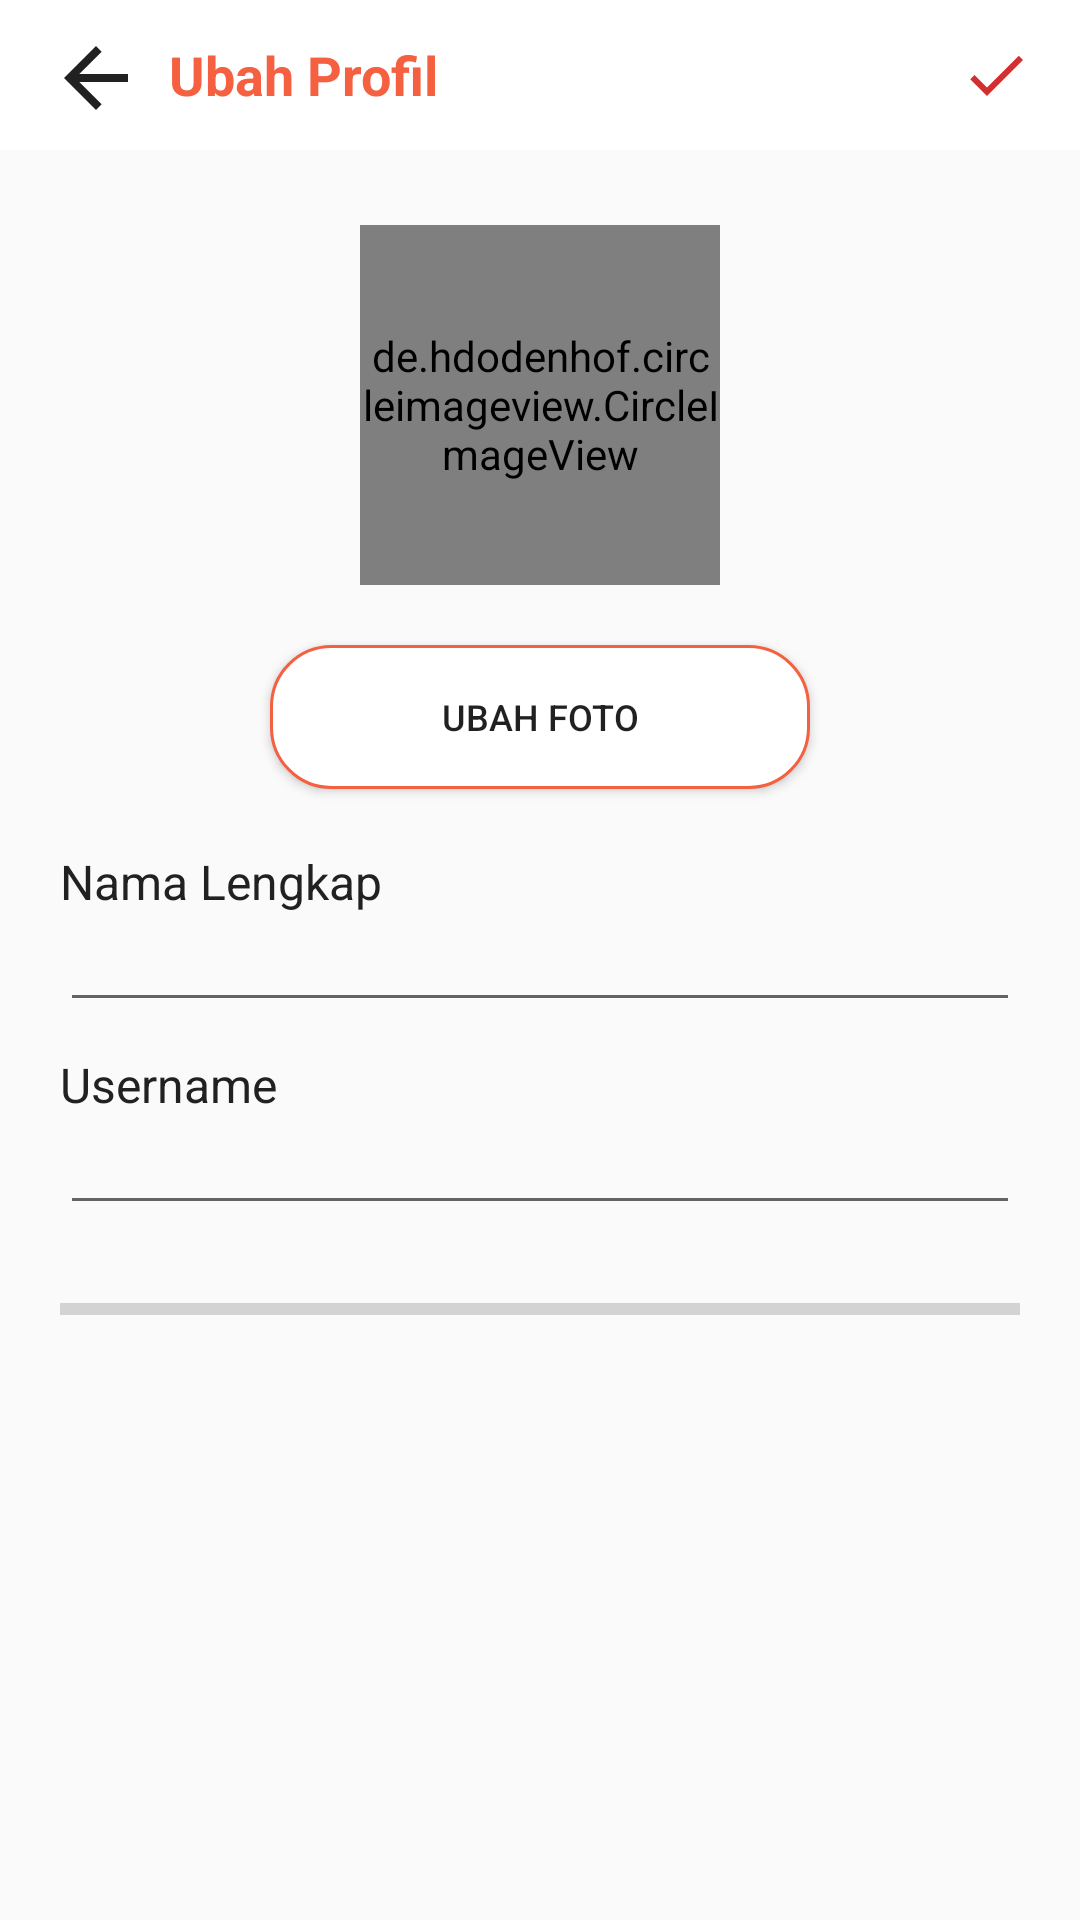

Screen size 1080w x 1920h. Icon name, then its center in pixels as (x=x, y=y):
check: (x=996, y=76)
keyboard backspace: (x=96, y=78)
